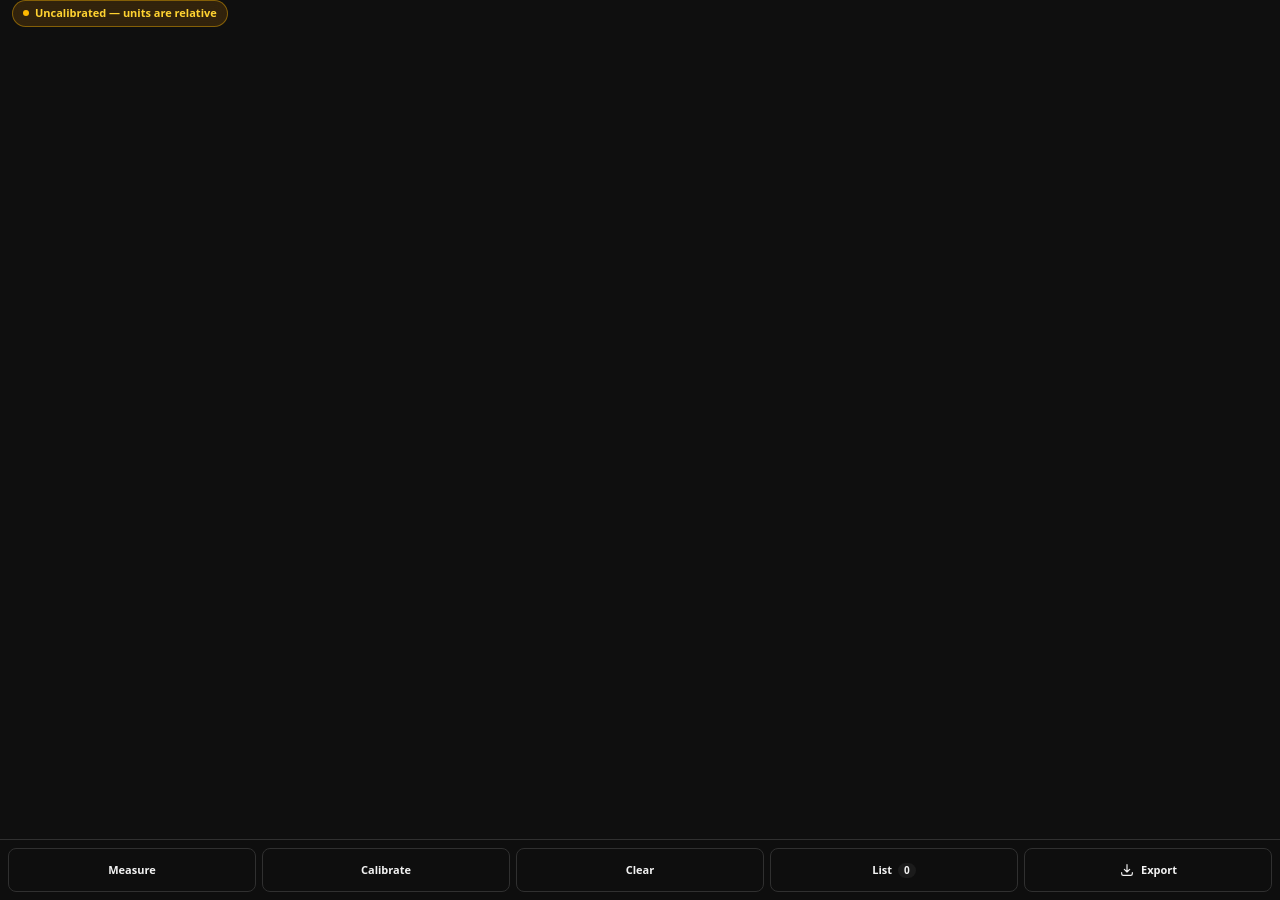
it: measure toolbar › says measurements are not saved when there is no project
Step 1. Click the button "List 0" → click(894, 870), box x1=770 y1=848 x2=1018 y2=892
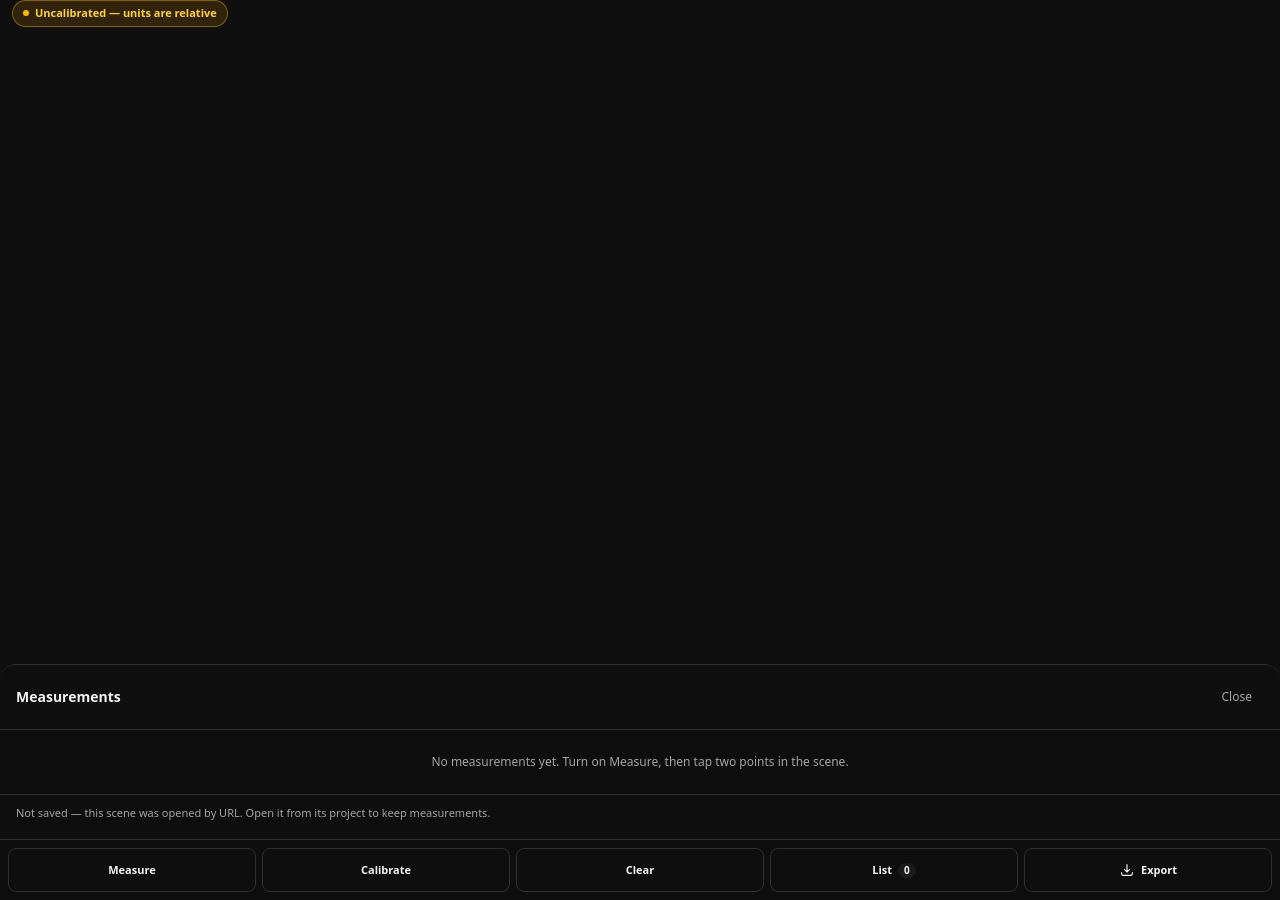
Now the text "Not saved" is shown, box x1=16 y1=804 x2=490 y2=820
